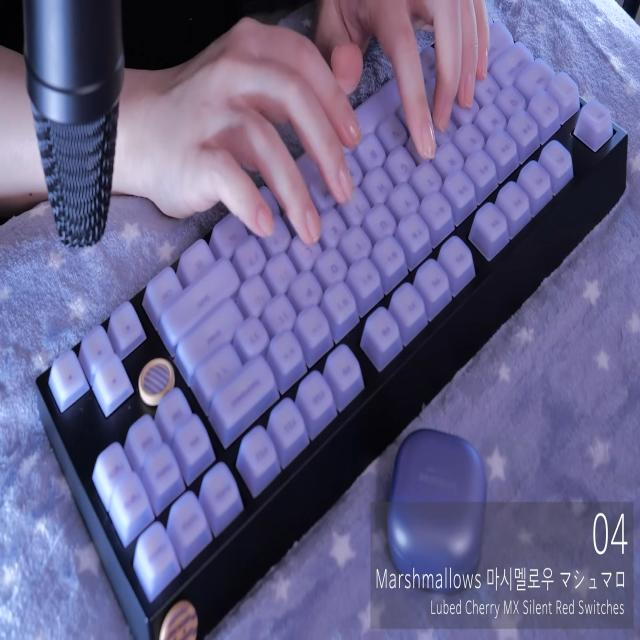keyboard-with-hands: (36, 4, 624, 618)
